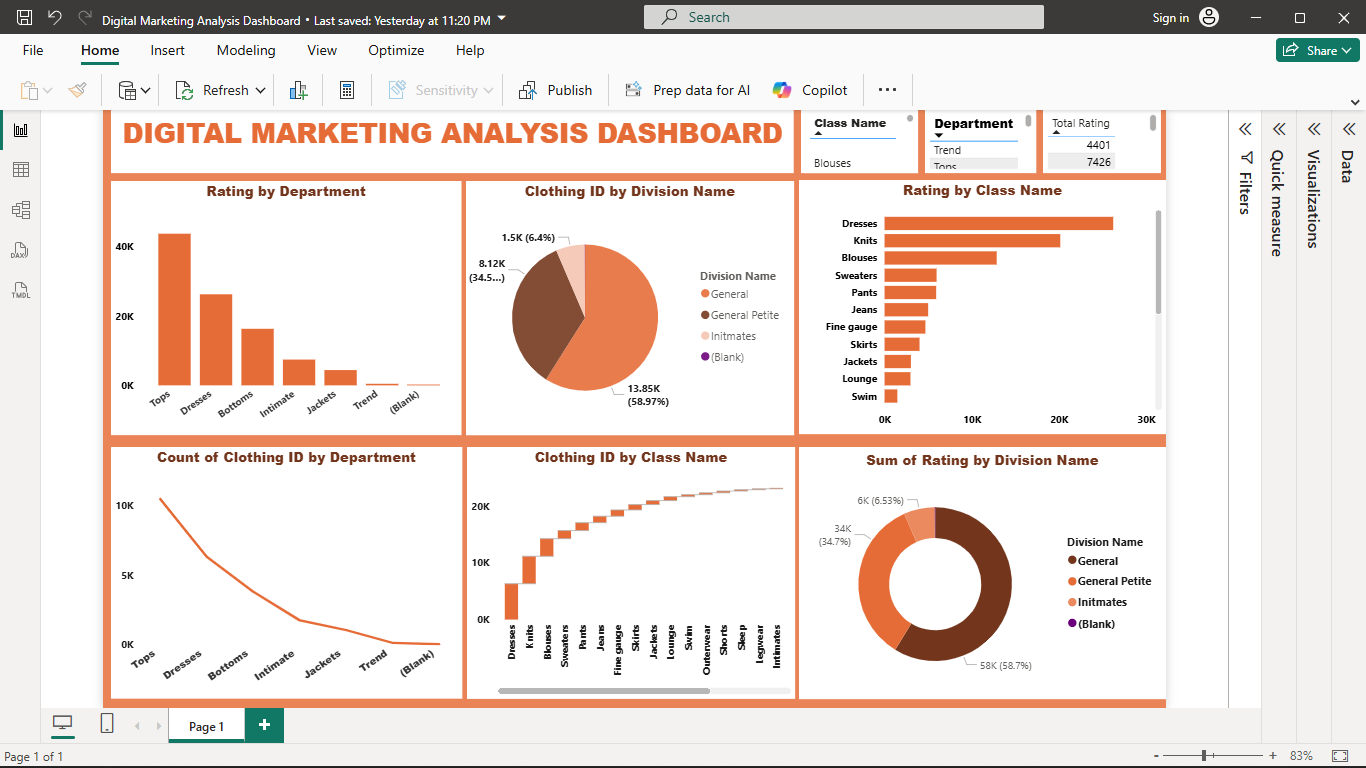

The page's visual inventory and layout, read from the dashboard file:
{"tool":"powerbi","page":{"name":"Page 1","canvas":[1280,720],"ordinal":0},"visuals":[{"type":"clusteredColumnChart","title":"Rating by Department","fields":{"Category":["Age by Dept Name.Department"],"Y":["Sum(Table1.Rating)"]},"box":[10,85.8,421.9,306.1],"z":0},{"type":"lineChart","fields":{"Y":["CountNonNull(Table1.Clothing ID)"],"Category":["Age by Dept Name.Department"]},"box":[9.6,406,422.5,302.8],"z":1000},{"type":"textbox","box":[437.6,85.8,394.7,306.1],"z":2000},{"type":"textbox","box":[437.7,406,395,302.8],"z":3000},{"type":"textbox","box":[10.4,0,821.9,76],"z":4000},{"type":"barChart","title":"Rating by Class Name","fields":{"Category":["Table1.Class Name"],"Y":["Sum(Table1.Rating)"]},"box":[838.1,84.4,441.9,306.1],"z":5000},{"type":"textbox","box":[838,406,442,303],"z":6000},{"type":"pieChart","title":"Clothing ID by Division Name","fields":{"Category":["Table1.Division Name"],"Y":["CountNonNull(Table1.Clothing ID)"]},"box":[437.6,85.8,394.7,306.1],"z":7000},{"type":"donutChart","fields":{"Category":["Table1.Division Name"],"Y":["Sum(Table1.Rating)"]},"box":[838.2,408.8,441.8,300],"z":8000},{"type":"waterfallChart","title":"Clothing ID by Class Name","fields":{"Category":["Table1.Class Name"],"Y":["CountNonNull(Table1.Clothing ID)"]},"box":[437.7,406,395,302.8],"z":9000},{"type":"textbox","box":[839.8,0,140.9,75.7],"z":10000},{"type":"tableEx","fields":{"Values":["Table1.Class Name"]},"box":[845.1,0,135.6,75.7],"z":11000},{"type":"tableEx","fields":{"Values":["Age by Dept Name.Department"]},"box":[989.5,0,133.8,75.7],"z":12000},{"type":"tableEx","fields":{"Values":["Depat name.Total Rating"]},"box":[1131.3,0,141.6,75.8],"z":13000}]}

Visuals, with their boxes on the page's 1280x720 design canvas (x1, y1, x2, y2). These are canvas units, not pixel positions in the 1366x768 screenshot, which may show the page scaled, cropped or inside an application window:
"Rating by Department" clusteredColumnChart: pyautogui.locateOnScreen(10, 86, 432, 392)
lineChart - CountNonNull(Table1.Clothing ID) x Age by Dept Name.Department: pyautogui.locateOnScreen(10, 406, 432, 709)
textbox: pyautogui.locateOnScreen(438, 86, 832, 392)
textbox: pyautogui.locateOnScreen(438, 406, 833, 709)
textbox: pyautogui.locateOnScreen(10, 0, 832, 76)
"Rating by Class Name" barChart: pyautogui.locateOnScreen(838, 84, 1280, 390)
textbox: pyautogui.locateOnScreen(838, 406, 1280, 709)
"Clothing ID by Division Name" pieChart: pyautogui.locateOnScreen(438, 86, 832, 392)
donutChart - Table1.Division Name x Sum(Table1.Rating): pyautogui.locateOnScreen(838, 409, 1280, 709)
"Clothing ID by Class Name" waterfallChart: pyautogui.locateOnScreen(438, 406, 833, 709)
textbox: pyautogui.locateOnScreen(840, 0, 981, 76)
tableEx - Table1.Class Name: pyautogui.locateOnScreen(845, 0, 981, 76)
tableEx - Age by Dept Name.Department: pyautogui.locateOnScreen(990, 0, 1123, 76)
tableEx - Depat name.Total Rating: pyautogui.locateOnScreen(1131, 0, 1273, 76)
